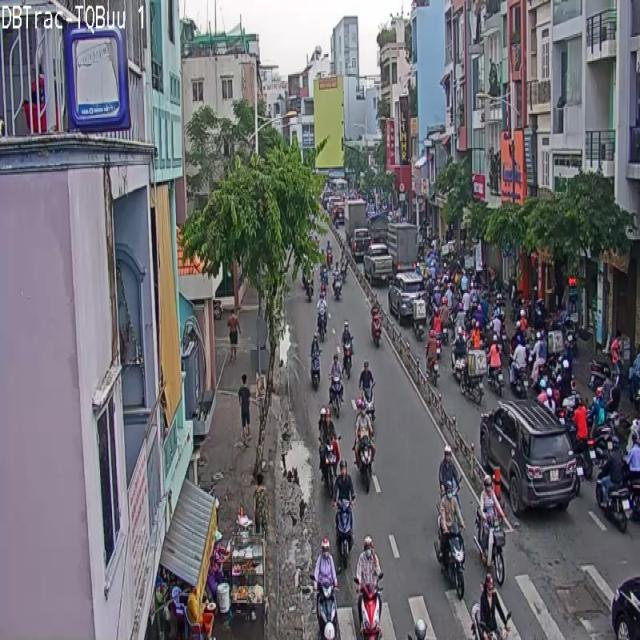car: (476, 475, 511, 583), (437, 481, 463, 597), (354, 535, 383, 639), (314, 539, 337, 629), (335, 461, 354, 567), (319, 437, 337, 494), (358, 437, 373, 491)
traffic-light: (480, 400, 578, 513)
